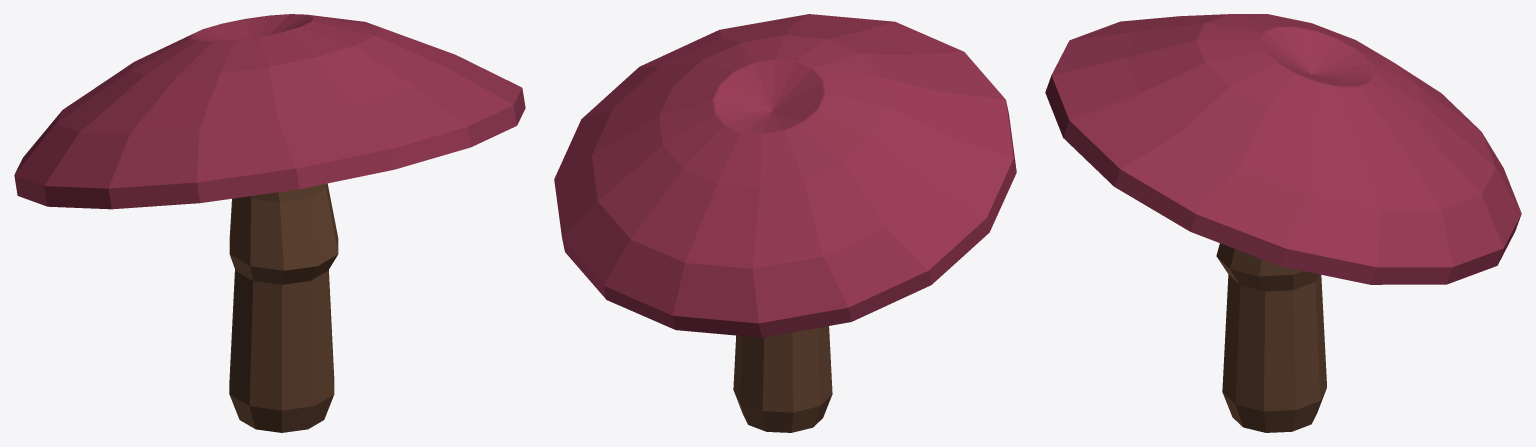
3 renders of one model, left to right at view 1: azimuth 30°, elevation 25°; view 2: azimuth 150°, elevation 25°; view 3: azimuth 270°, elevation 25°, orthographic. The views are drawn at different scales.
Visible parts, largest first — view 1: cap_band, stem_band; view 2: cap_band, stem_band; view 3: cap_band, stem_band.
Part boxes in pixels (box(x1,y1,x2,y2)): cap_band: box(14, 14, 525, 209); stem_band: box(229, 183, 338, 432); cap_band: box(554, 14, 1016, 337); stem_band: box(733, 326, 832, 432); cap_band: box(1045, 14, 1521, 284); stem_band: box(1216, 243, 1326, 432).
Size of the model in its own units: 0.122 by 0.1013 by 0.1176.
